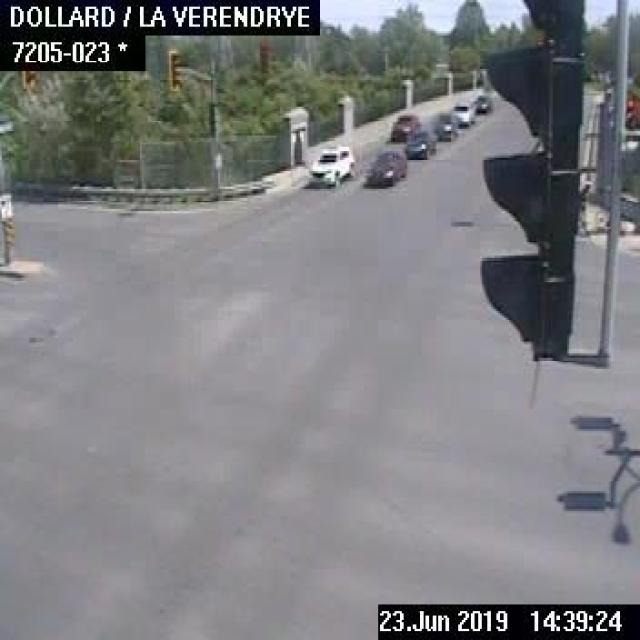vehicle: (304, 144, 354, 189), (364, 148, 409, 186), (428, 110, 459, 144), (388, 112, 420, 140), (404, 130, 434, 159), (450, 100, 474, 127), (472, 92, 491, 119)
